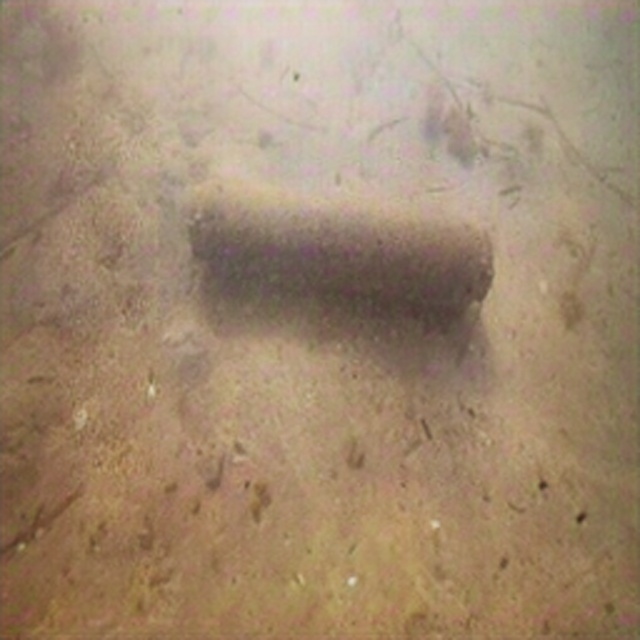mine: (188, 178, 495, 308)
